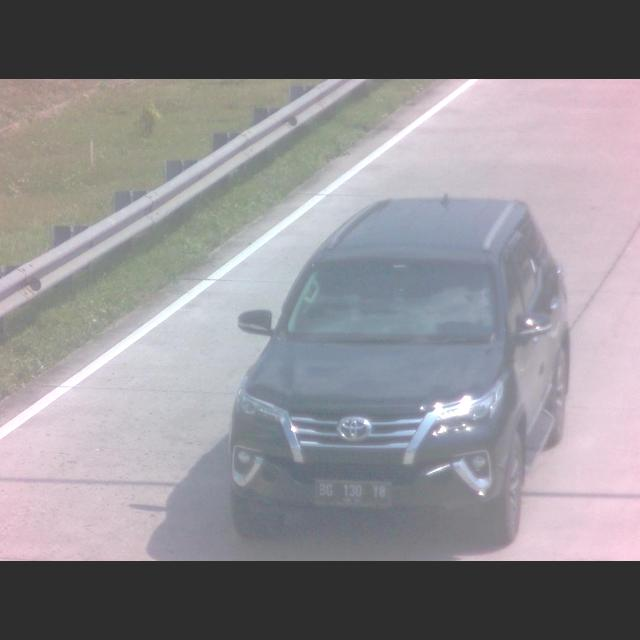plate: (312, 476, 396, 510)
